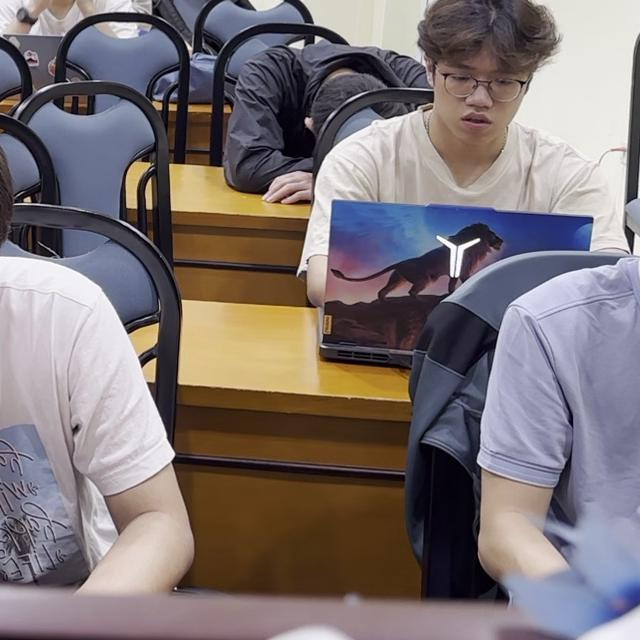Looking away: (436, 54, 529, 148)
